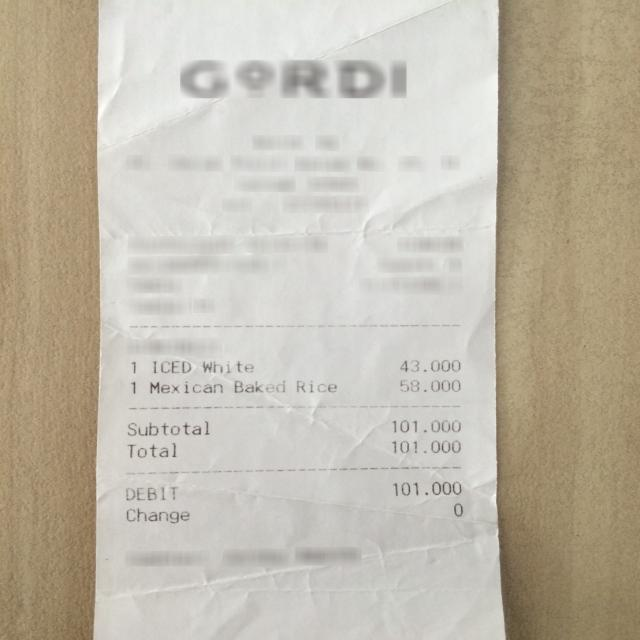kertas: (95, 0, 505, 640)
